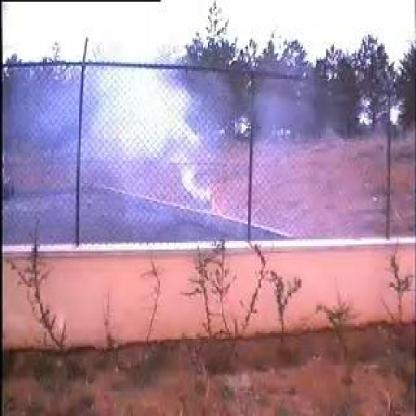-: (35, 61, 234, 239)
